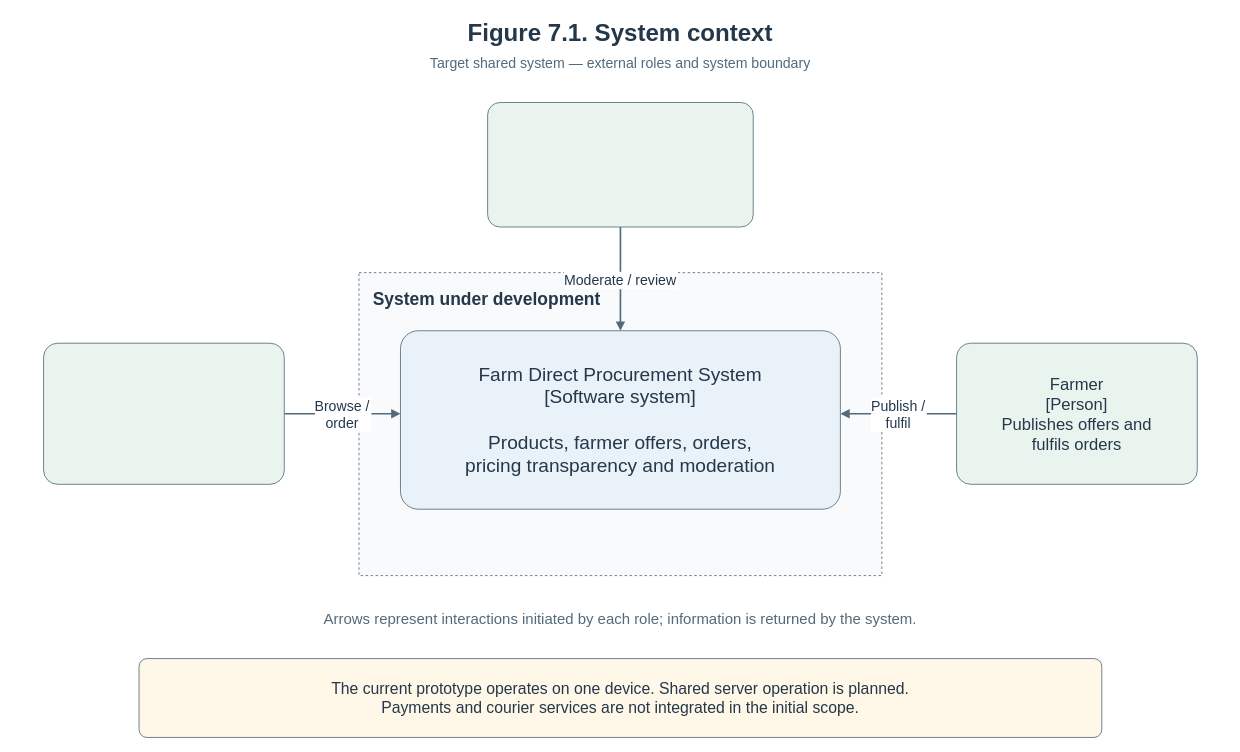
The diagram is 1240 pixels wide and 752 high, and some of its shapes have lost their labels. Here are the shapes that lost their labels. From the top down, the centre of each, then its label:
At [620,164]: "Administrator [Person] Moderates accounts and offers".
At [163,413]: "Buyer [Person] Finds offers and places orders".
